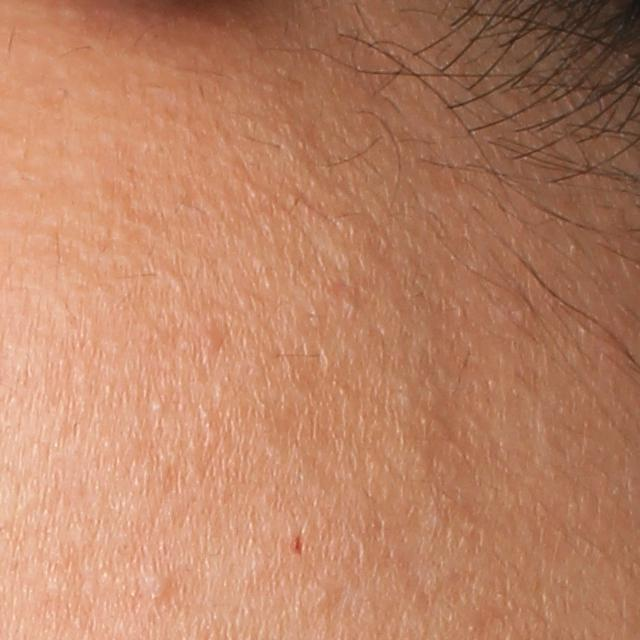comedo: (136, 568, 168, 603), (148, 394, 169, 419), (198, 330, 221, 351)
